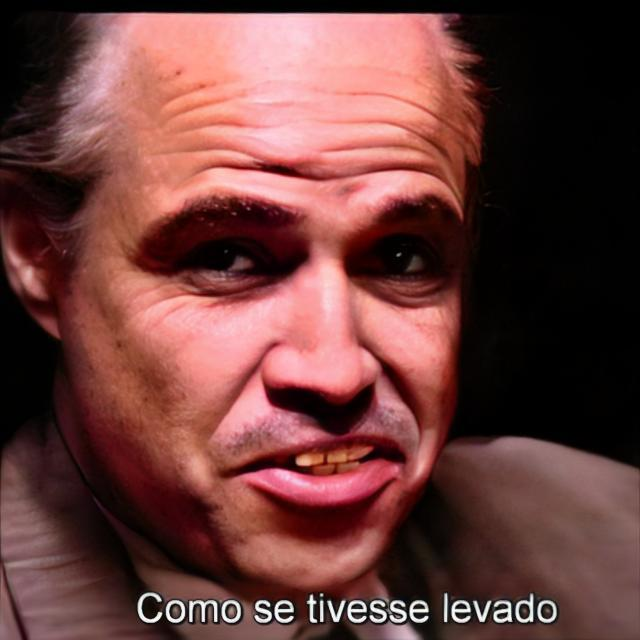disgust: (56, 13, 472, 594)
